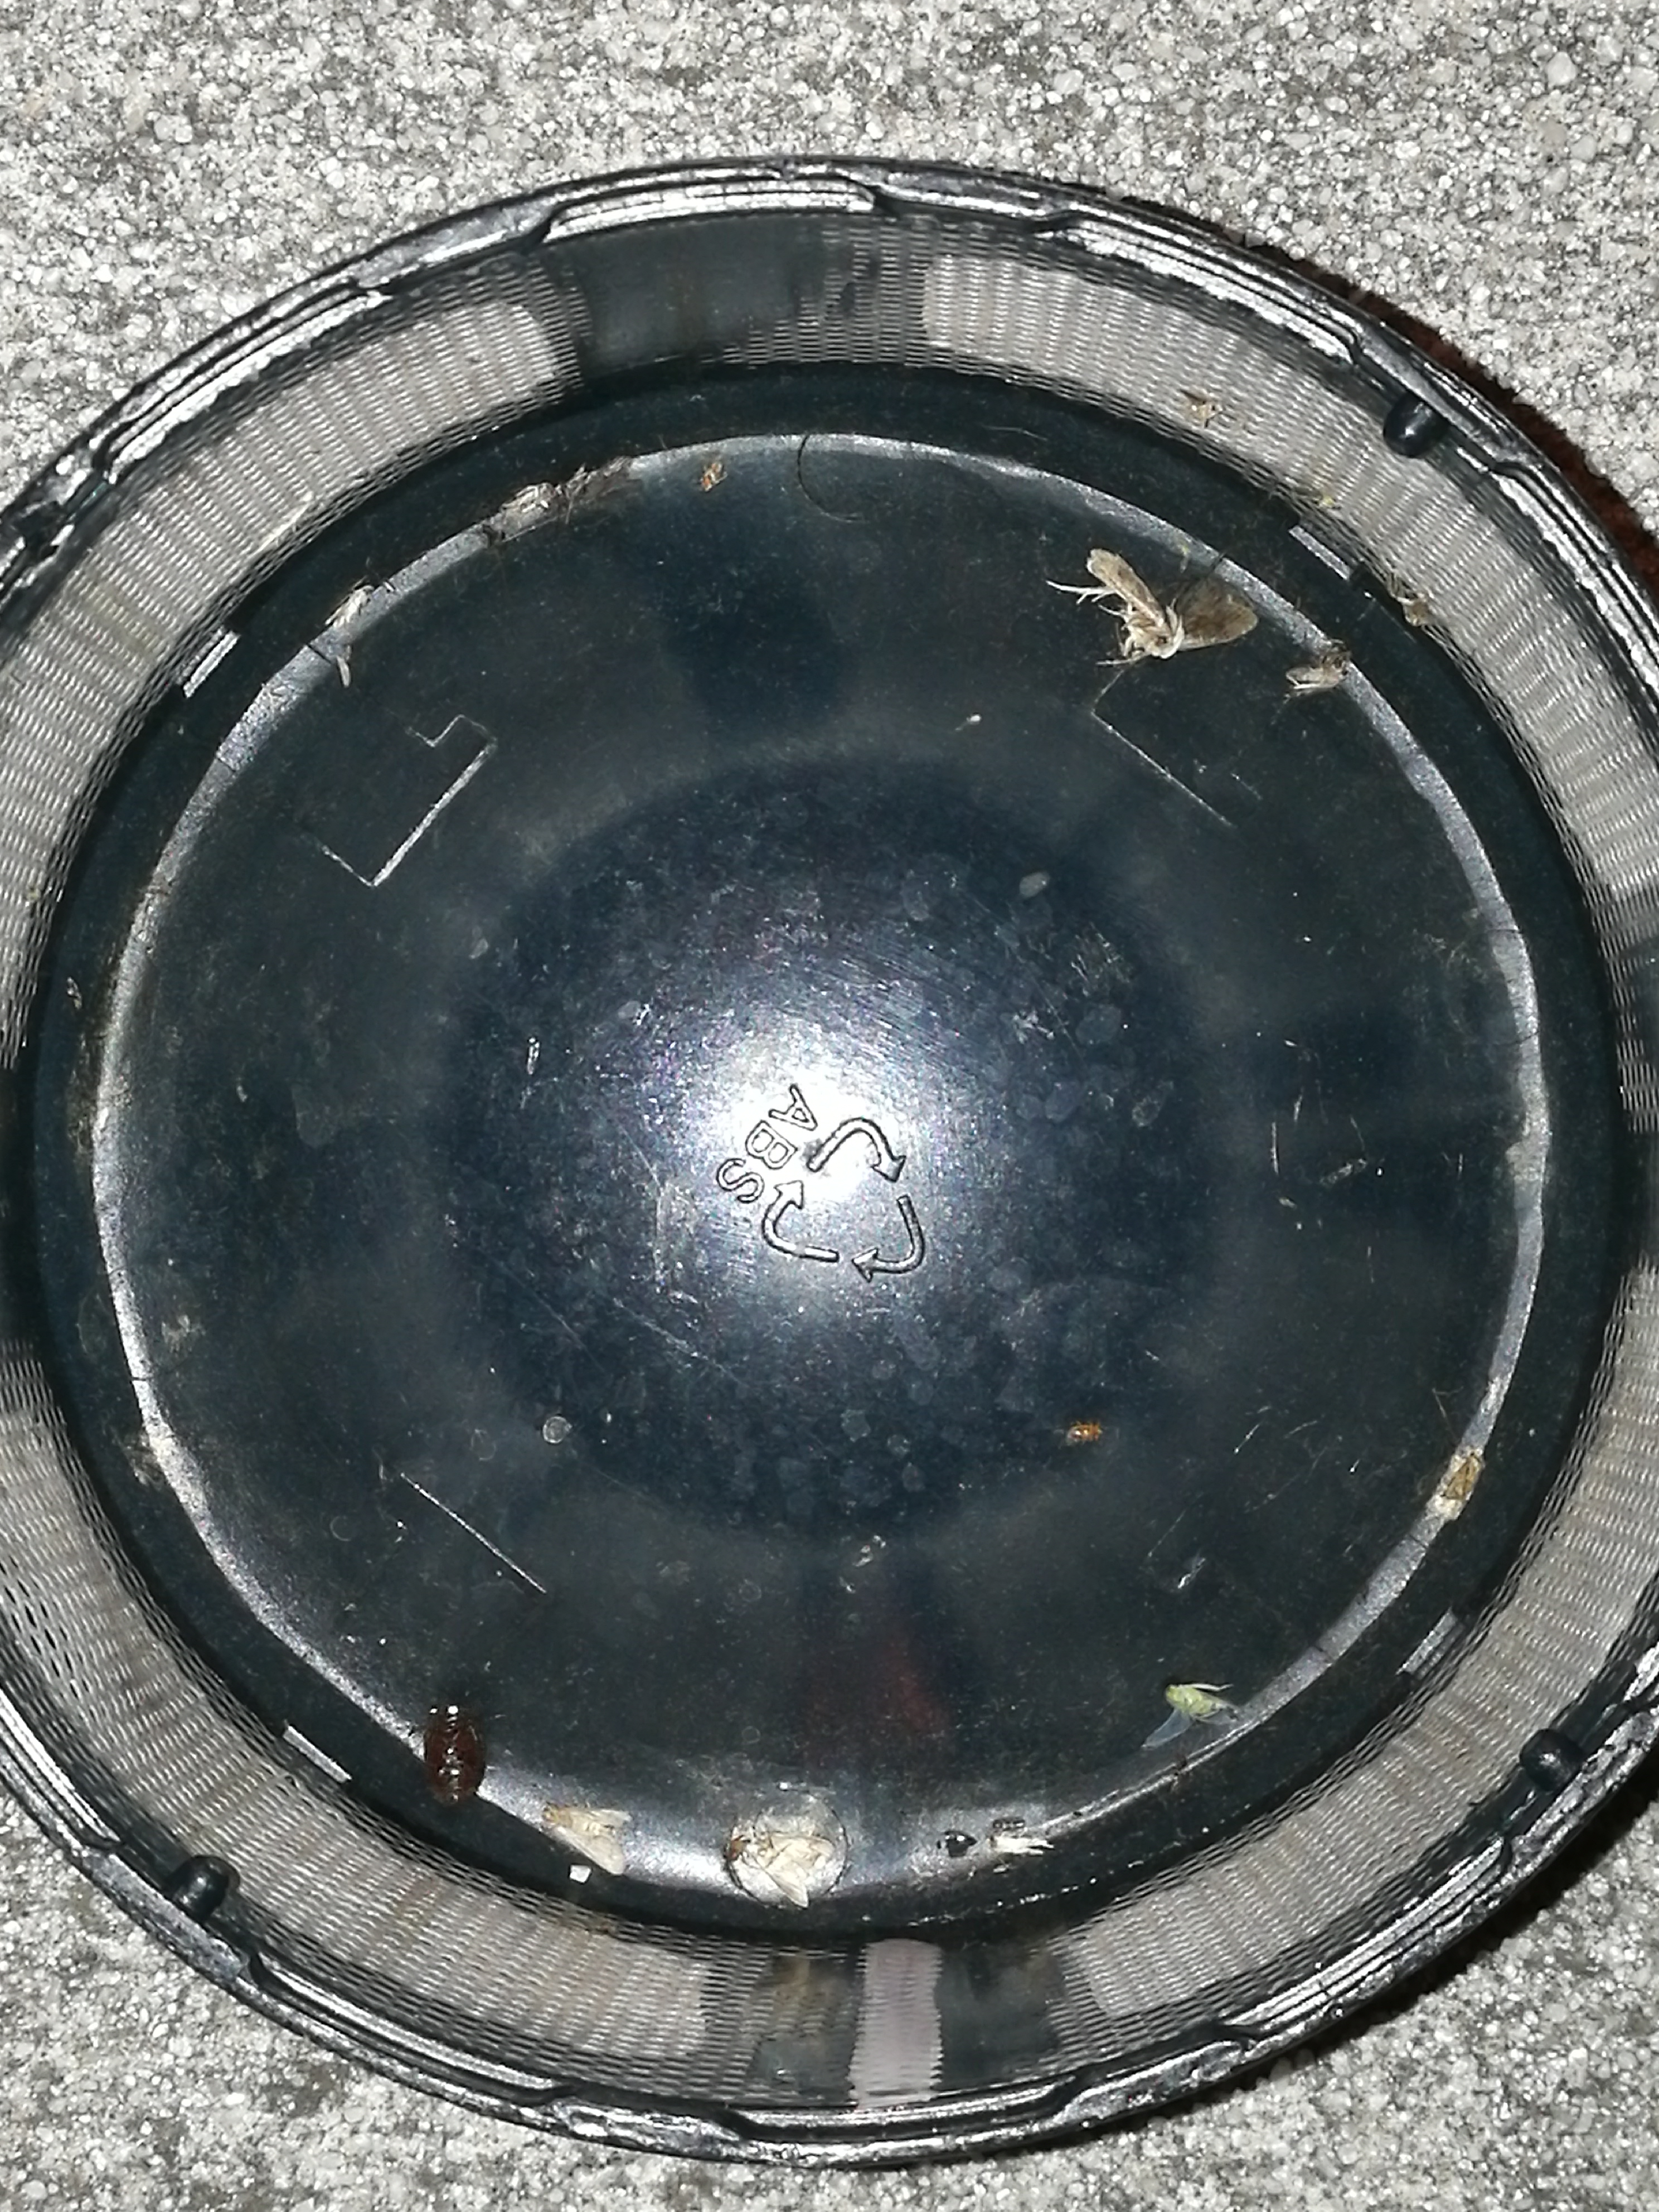beetle: (425, 1705, 486, 1806)
mosquito: (329, 583, 371, 627), (504, 484, 552, 517), (1283, 667, 1349, 690)
moth: (1086, 550, 1258, 660), (751, 1832, 831, 1907), (544, 1808, 629, 1876)
